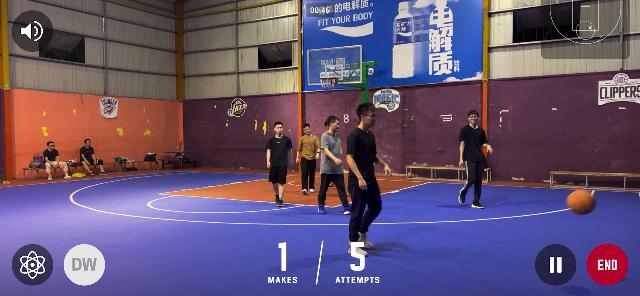ball: (566, 187, 596, 217)
basket: (318, 74, 338, 93)
